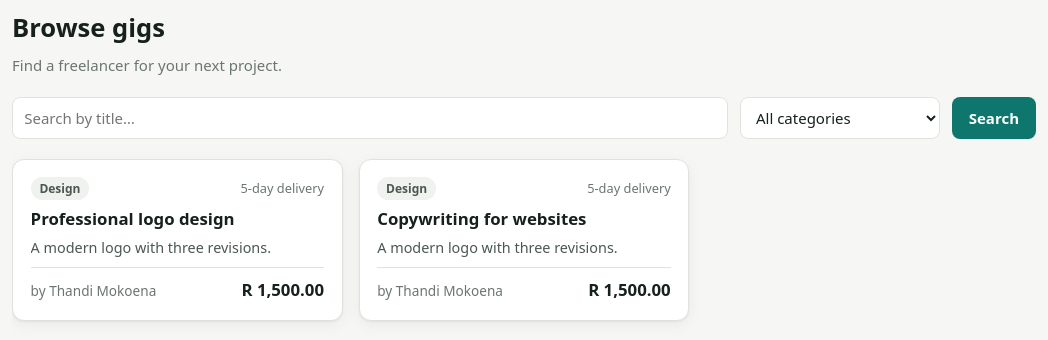
Test: GigsPage › lists gigs from the API and searches by title
The image size is (1048, 340).
Expected: the link "Copywriting for websites" is shown, [377,207,586,230]
Type "logo" into the search field named "Search gigs".
click(370, 118); type("logo")  # box [12,97,728,139]
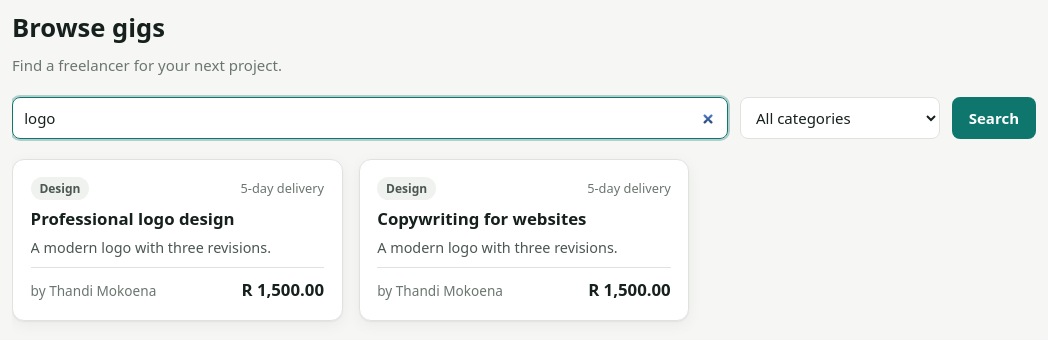
Click the button "Search".
click(994, 118)  # box [952,97,1036,139]
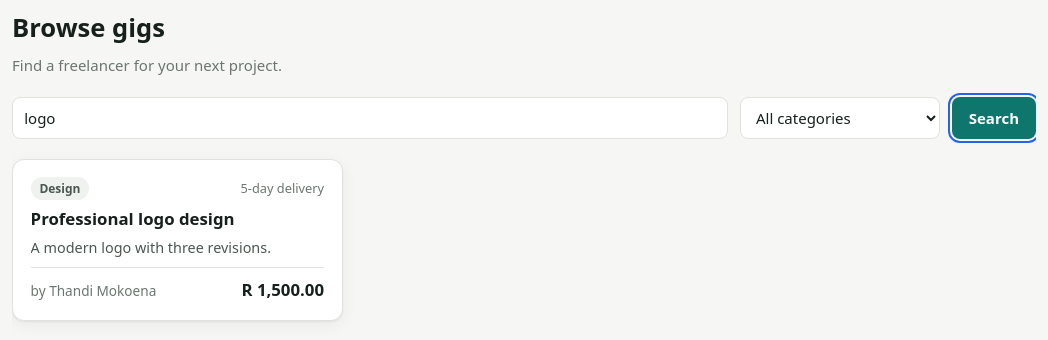
Expected: the link "Professional logo design" is shown, [31,207,235,230]
Expected: the link "Copywriting for websites" is gone
